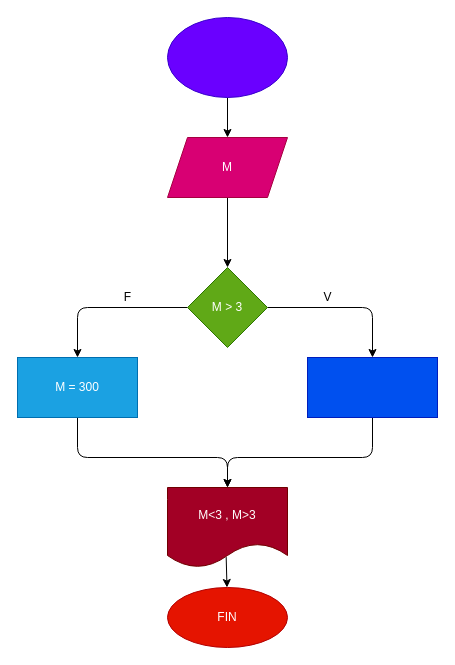
This 455x665 diagram has some shape labels left out. The centre of each missing label's shape, as x and y in pixels:
INICIO: [227,57]
M = 300 + (M - 3) * 50: [372,387]
